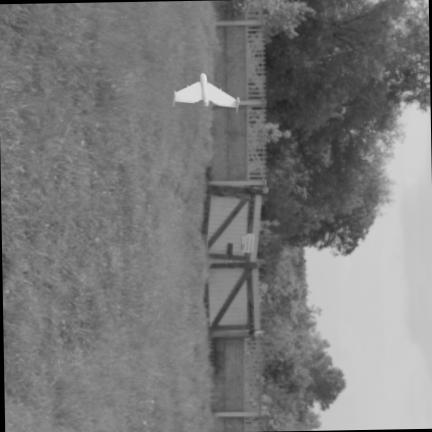Shahed: (168, 71, 240, 115)
